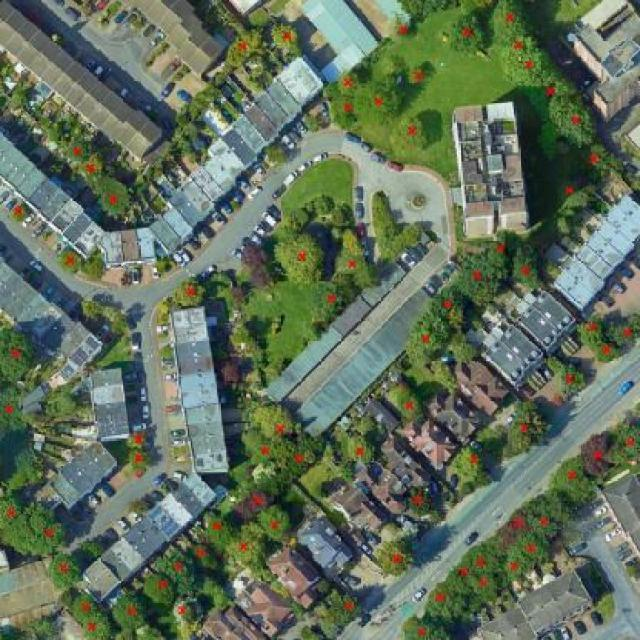tree: (272, 227, 331, 290), (456, 248, 509, 307), (547, 92, 601, 149), (501, 399, 552, 458), (354, 76, 406, 130), (22, 503, 70, 560), (223, 518, 271, 574), (549, 452, 594, 509), (499, 45, 555, 90), (332, 241, 380, 293), (405, 312, 448, 368), (237, 426, 288, 471), (527, 68, 581, 110), (0, 324, 37, 385), (306, 278, 354, 325), (490, 0, 535, 48), (249, 400, 300, 442), (425, 282, 470, 329), (447, 11, 490, 60), (483, 225, 529, 270), (224, 22, 267, 70), (510, 243, 548, 294), (390, 116, 432, 162), (575, 430, 614, 479), (194, 570, 238, 612), (375, 535, 419, 577), (576, 141, 627, 177), (96, 174, 135, 221), (229, 484, 277, 522), (45, 550, 87, 593), (155, 545, 196, 588), (112, 591, 153, 631), (368, 51, 411, 89), (553, 175, 596, 213), (256, 503, 296, 543), (450, 442, 490, 482), (0, 382, 29, 436), (392, 0, 460, 23), (496, 503, 530, 548), (422, 580, 462, 618), (398, 612, 451, 640), (198, 513, 238, 549), (172, 274, 210, 311), (329, 590, 366, 628), (552, 361, 591, 397), (465, 539, 500, 579), (328, 93, 363, 132), (142, 570, 178, 607), (343, 431, 379, 467), (392, 388, 429, 423), (494, 35, 541, 62), (516, 532, 553, 566), (499, 548, 533, 584), (577, 313, 611, 349), (0, 492, 29, 533), (471, 570, 503, 607), (270, 19, 304, 53), (528, 507, 562, 541), (446, 553, 477, 590), (78, 609, 114, 640), (20, 614, 62, 640), (385, 11, 419, 43), (238, 237, 270, 271), (286, 441, 317, 476), (614, 421, 640, 462), (406, 485, 437, 519), (71, 589, 100, 625), (249, 456, 280, 489), (450, 336, 482, 367), (79, 153, 106, 184), (189, 543, 217, 572), (125, 447, 154, 475), (336, 66, 364, 95), (78, 296, 107, 324), (64, 135, 91, 164), (79, 538, 108, 565), (51, 392, 80, 419), (263, 141, 291, 168), (58, 247, 84, 276), (593, 340, 621, 365), (124, 428, 153, 452), (613, 322, 638, 349), (85, 255, 109, 283), (109, 309, 133, 337), (172, 599, 198, 624), (8, 201, 34, 225), (218, 362, 244, 386), (247, 267, 273, 291), (337, 458, 358, 485), (301, 112, 324, 133), (407, 64, 427, 88), (358, 412, 379, 434), (296, 624, 323, 640), (45, 126, 63, 146), (11, 92, 31, 110), (316, 575, 332, 597), (315, 482, 332, 502), (187, 120, 204, 138), (173, 110, 190, 127), (624, 563, 640, 580)
